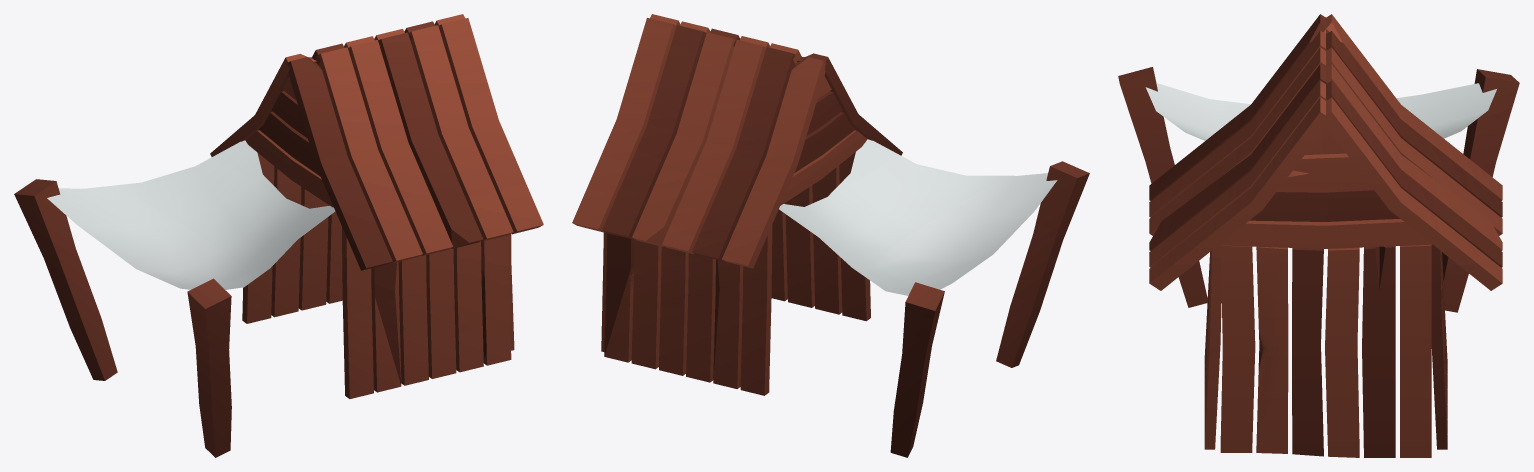
File: m_bg_house_01.fbx
The picture shows the model from 3 angles, left to right: view 1: azimuth 30°, elevation 25°; view 2: azimuth 150°, elevation 25°; view 3: azimuth 270°, elevation 25°; orthographic projection. The views are drawn at different scales.
Parts seen in each view (by area): view 1: m_bg_house_01; view 2: m_bg_house_01; view 3: m_bg_house_01.
Boxes of the visible parts, x1=… form: m_bg_house_01: x1=14, y1=14, x2=543, y2=457; m_bg_house_01: x1=572, y1=14, x2=1089, y2=457; m_bg_house_01: x1=1118, y1=14, x2=1519, y2=457.
Size of the model in its own units: 460 by 388 by 381.
